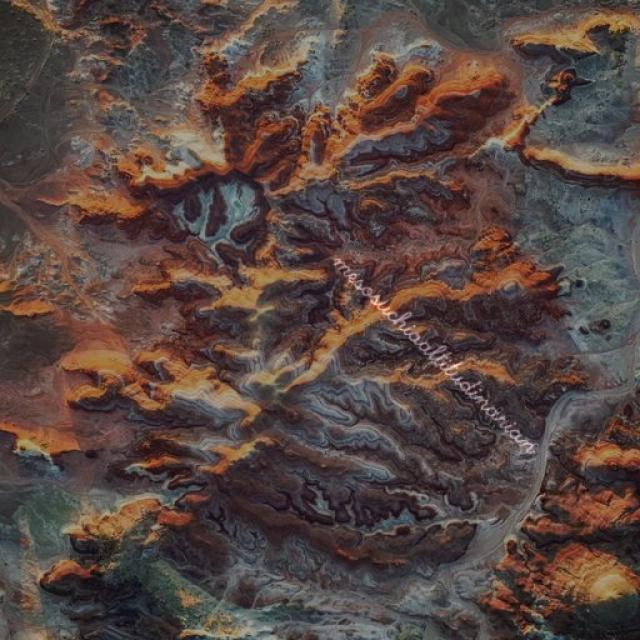watermark: (324, 241, 550, 460)
